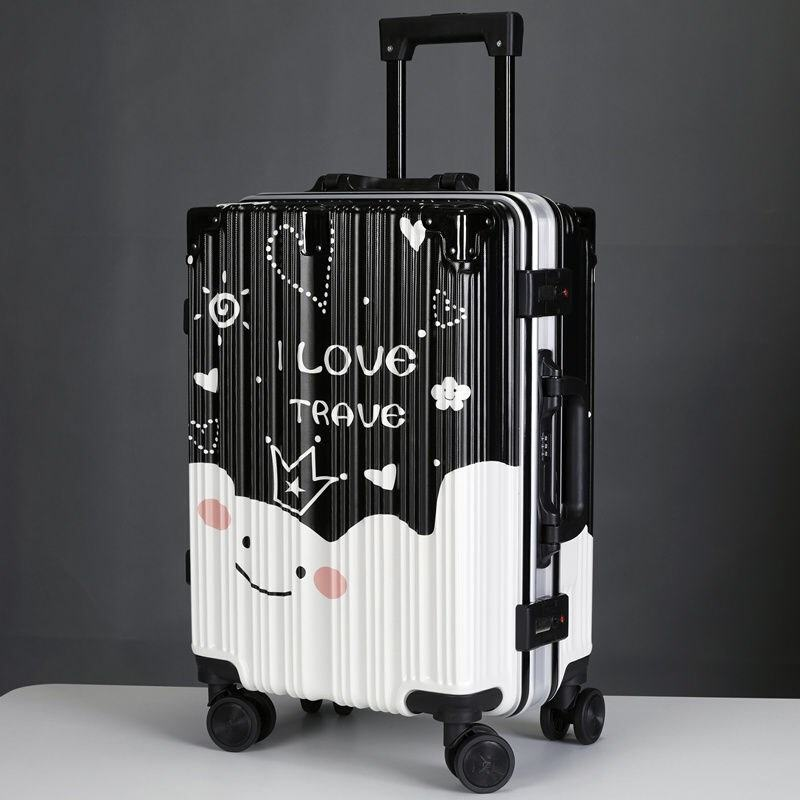box: (186, 193, 594, 719)
handle: (539, 349, 591, 567)
lock: (515, 594, 570, 651), (519, 267, 574, 319)
wheel: (443, 724, 516, 794), (206, 689, 277, 752), (539, 683, 605, 747)
